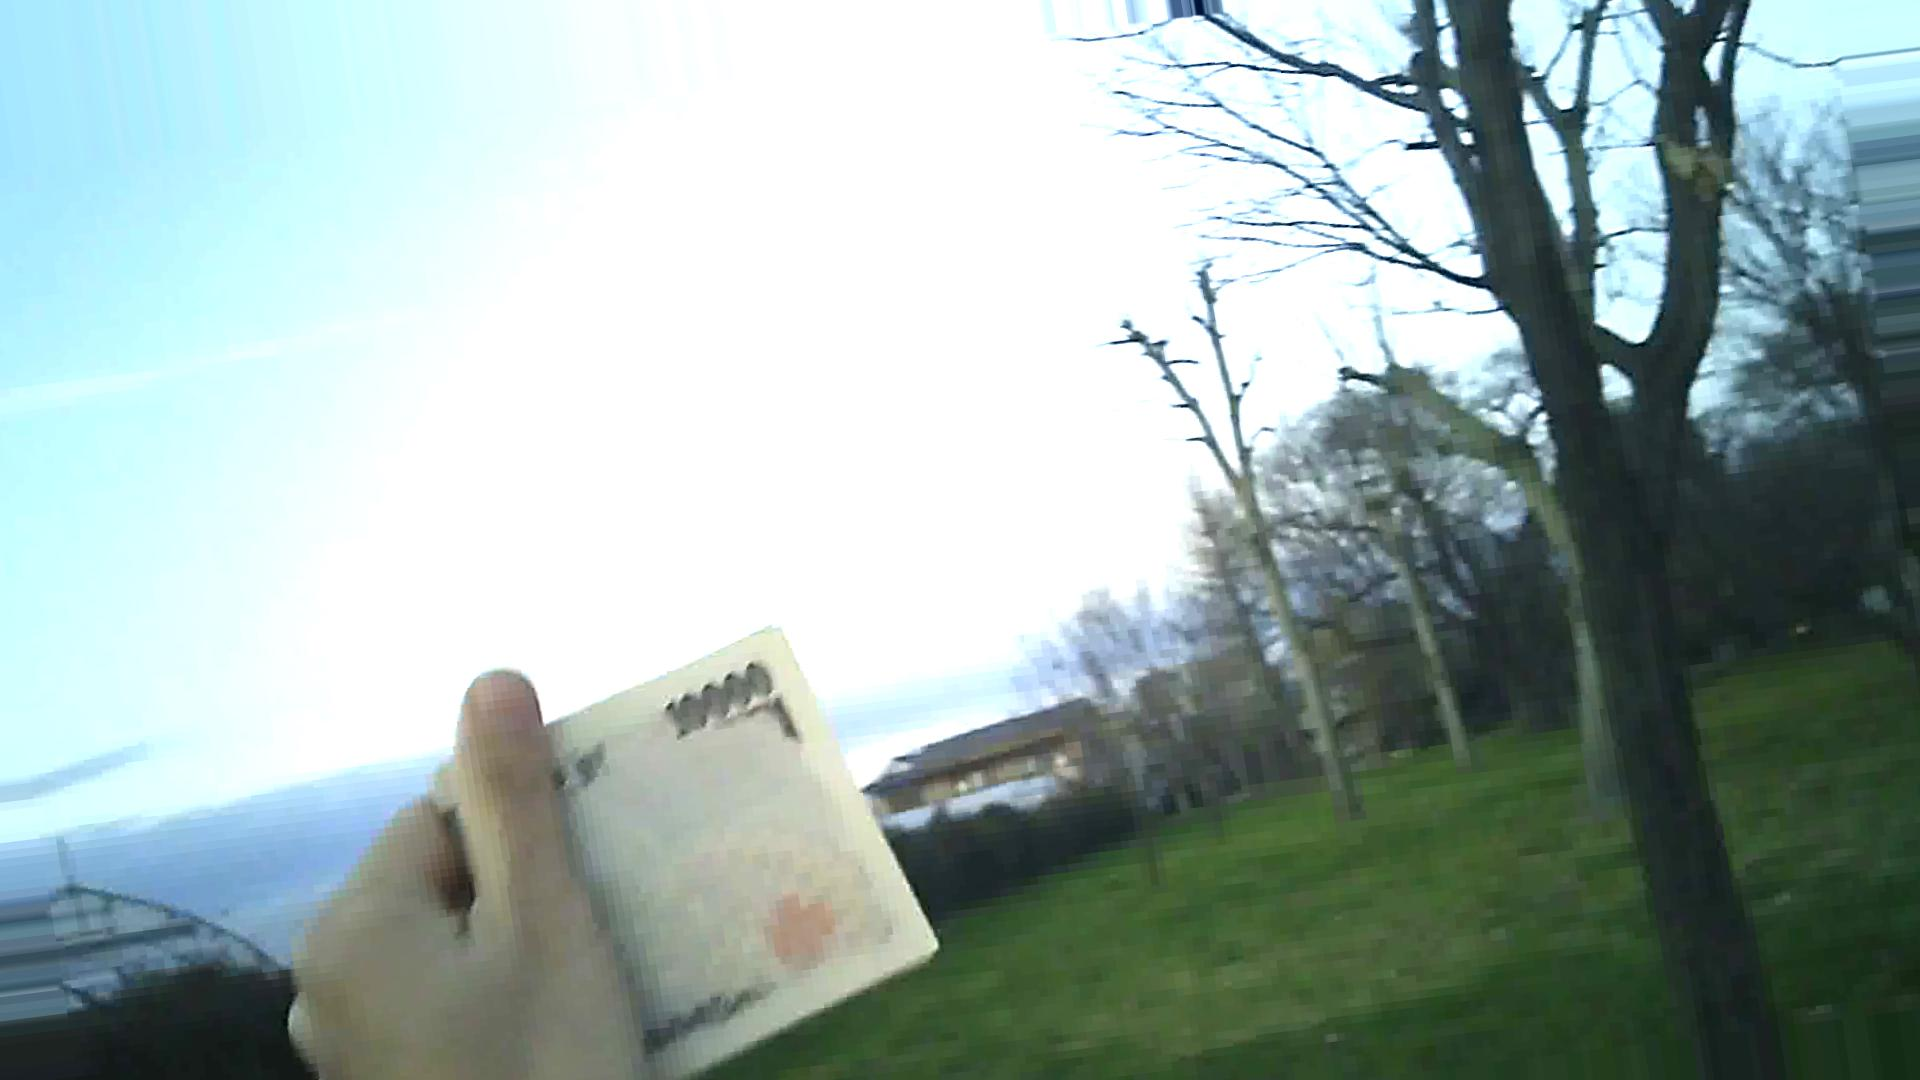10,000 Yen: (438, 605, 898, 1043)
